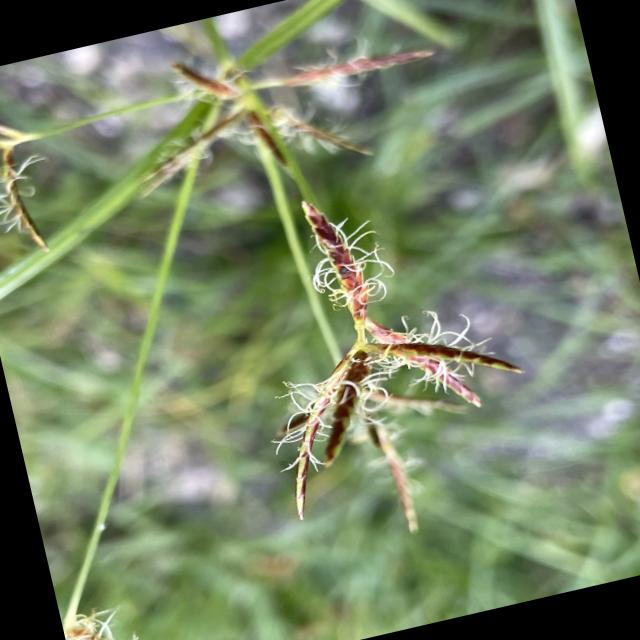cyperus: (168, 162, 560, 556), (108, 0, 477, 222), (0, 79, 78, 276), (57, 582, 165, 640)
